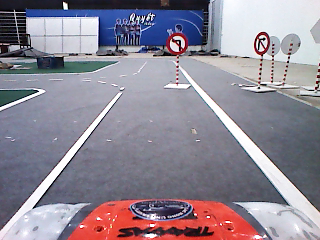ban: (166, 32, 189, 56), (254, 31, 271, 55)
